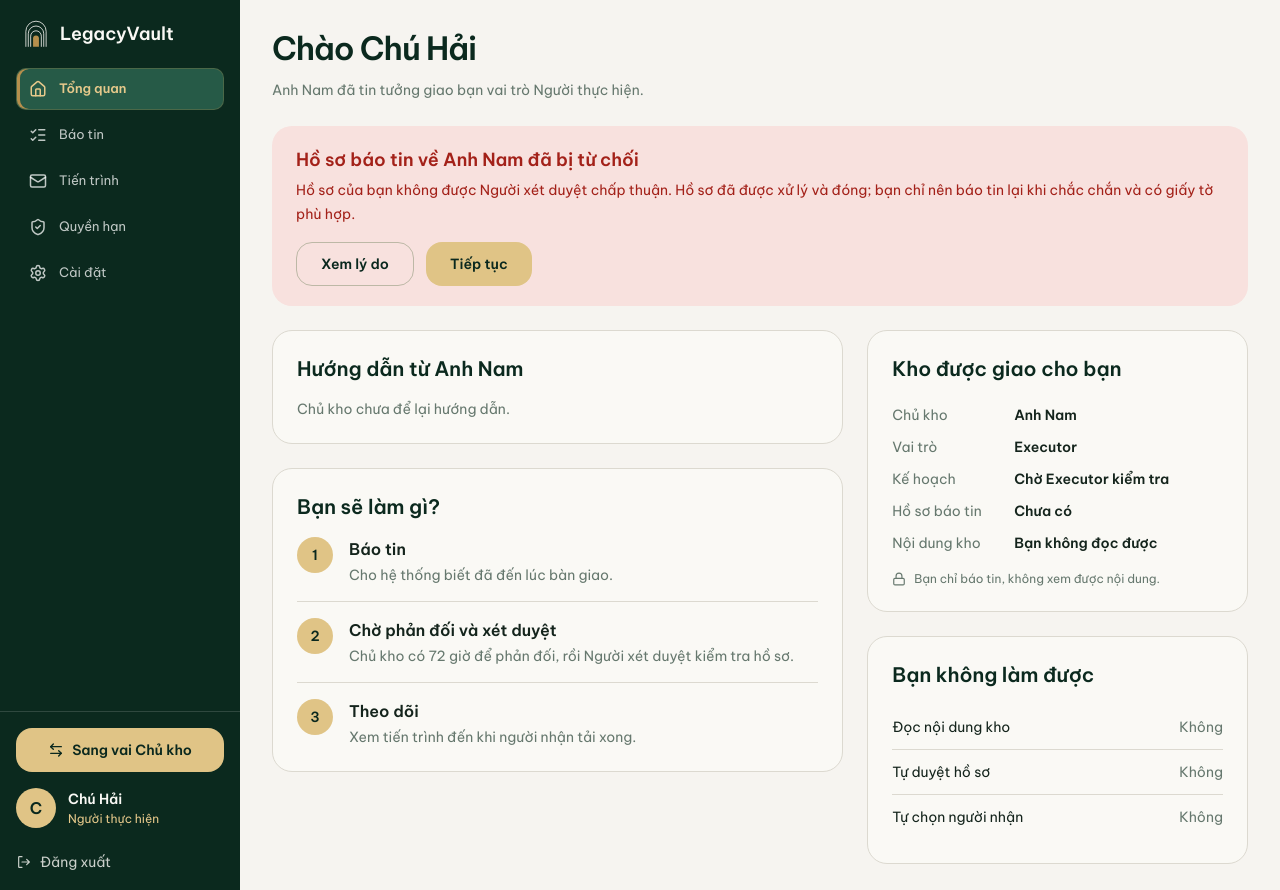
Executor overview › shows the rejected banner before the overdue banner, then the overdue one after Tiếp tục
Expected: the text "Hồ sơ báo tin về Anh Nam đã bị từ chối" is shown, [296,148,639,171]
Expected: the text "Anh Nam đã quá hạn điểm danh" is not shown
What coordinates should you click on to do the following:
click the button "Tiếp tục"
I would click on:
 (479, 264)
Its box is [426,242,532,286].
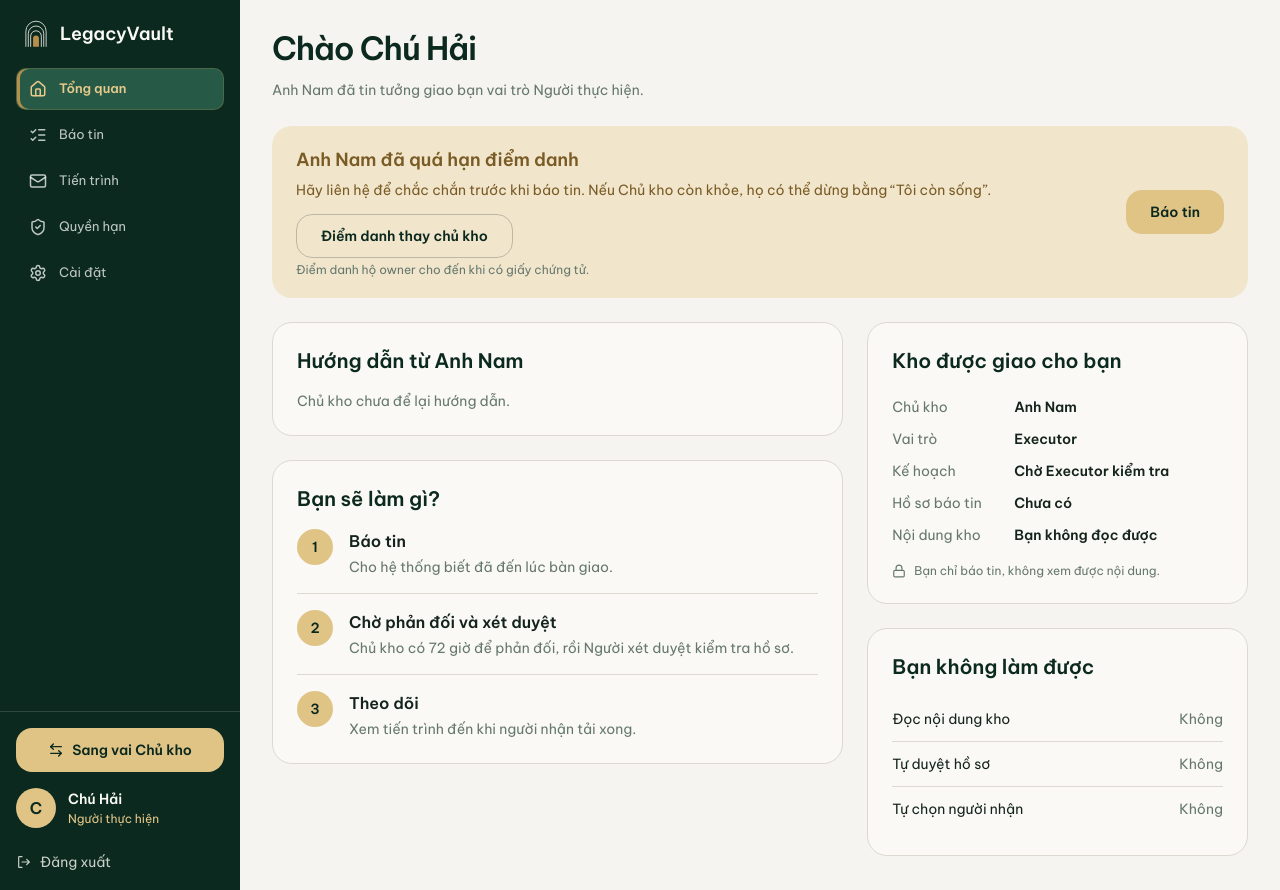
Expected: the text "Anh Nam đã quá hạn điểm danh" is shown, [296,148,579,171]
Expected: the text "Hồ sơ báo tin về Anh Nam đã bị từ chối" is gone
